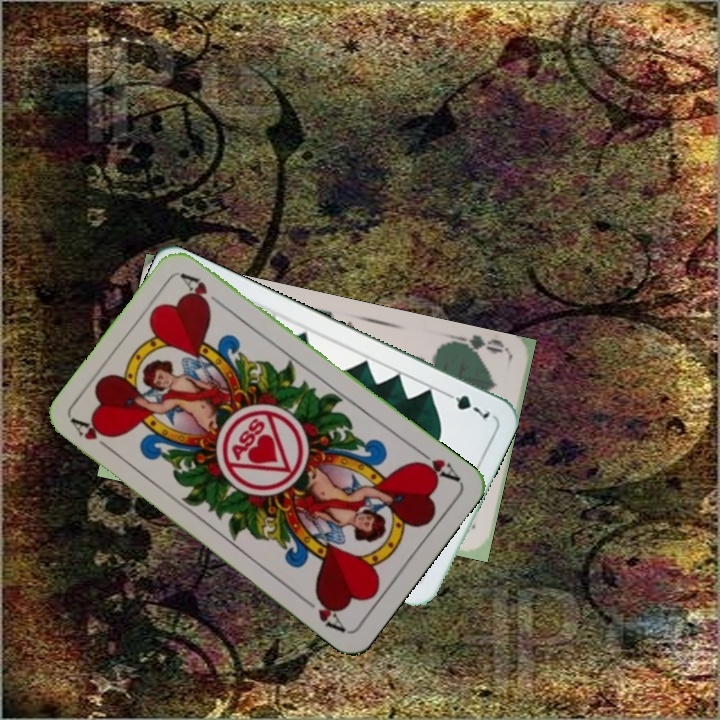G7: (439, 387, 493, 422)
GO: (448, 330, 508, 362)
HA: (410, 444, 463, 485), (68, 415, 119, 457)
